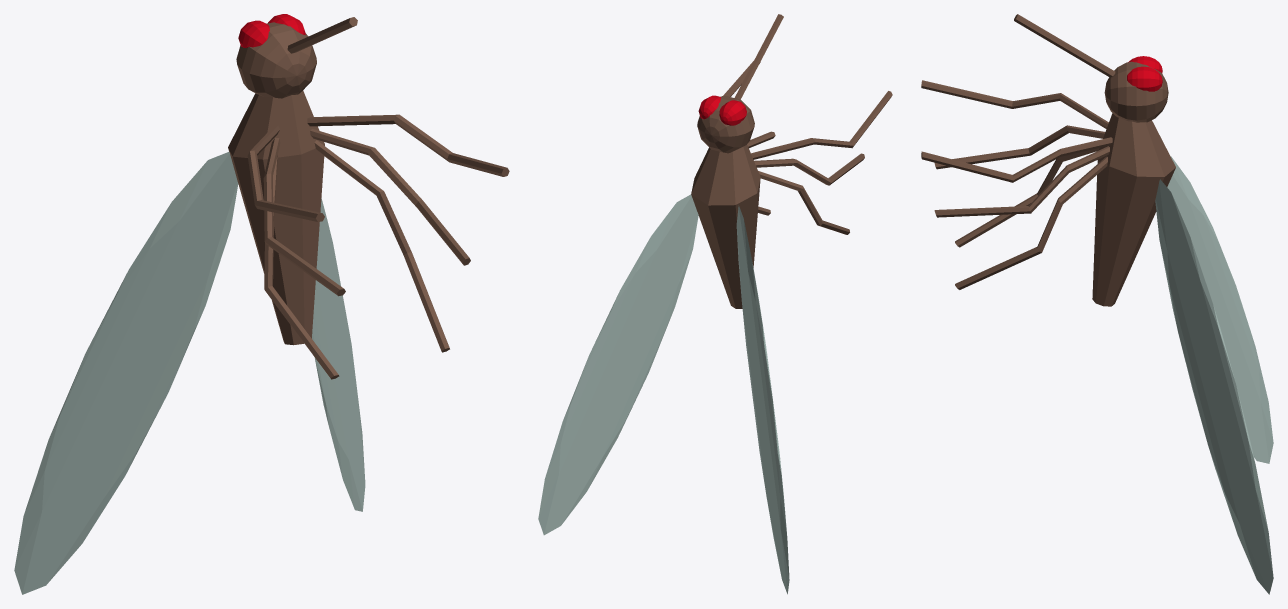
File: Mosquito.fbx
3 renders of one model, left to right at view 1: azimuth 30°, elevation 25°; view 2: azimuth 150°, elevation 25°; view 3: azimuth 270°, elevation 25°, orthographic. The views are drawn at different scales.
Visible parts, largest first — view 1: Mosquito; view 2: Mosquito; view 3: Mosquito.
Part boxes in pixels (left/top/right/bottom): Mosquito: left=14, top=14, right=509, bottom=594; Mosquito: left=538, top=14, right=892, bottom=594; Mosquito: left=921, top=14, right=1273, bottom=594.
Bounding box in the file's own units: 39.97 × 71.02 × 44.06.
